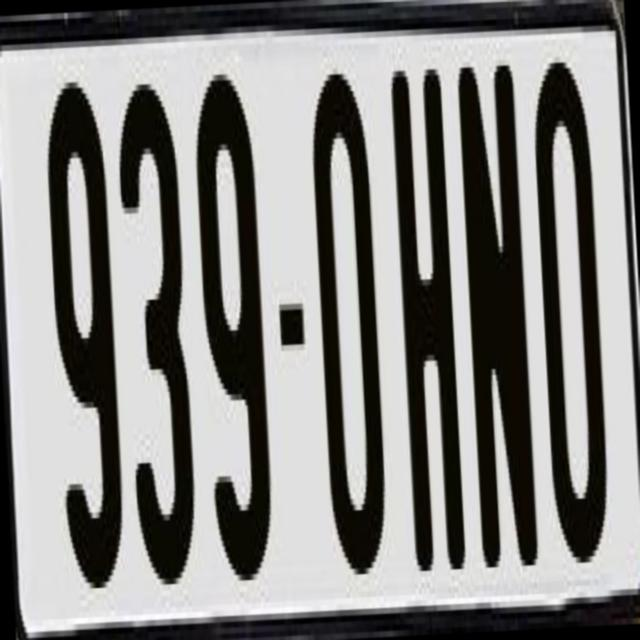0: (304, 73, 390, 599), (528, 56, 610, 582)
3: (115, 82, 205, 604)
9: (191, 55, 284, 582), (38, 81, 124, 619)
H: (386, 58, 464, 566)
N: (458, 65, 546, 585)
